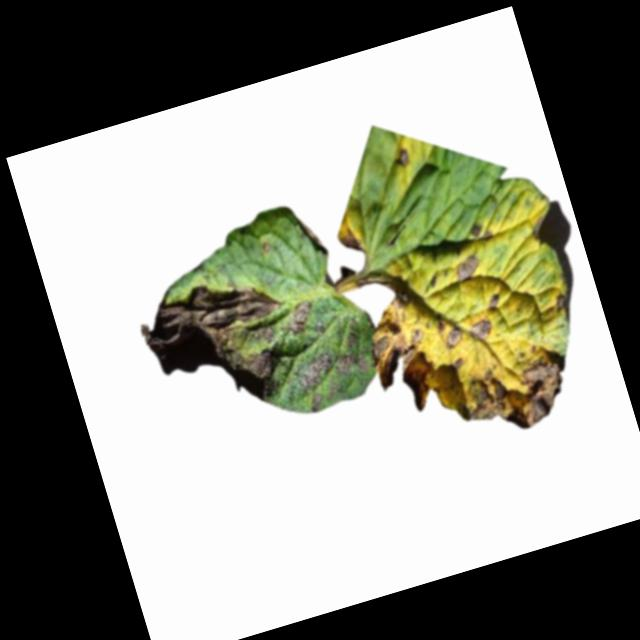Early_blight: (133, 264, 306, 429), (446, 343, 581, 446), (360, 304, 442, 422), (287, 329, 378, 414), (352, 257, 421, 320), (276, 296, 322, 341), (450, 250, 486, 284), (468, 313, 496, 342), (551, 287, 576, 313), (440, 320, 463, 348), (390, 147, 414, 170), (482, 289, 503, 311)
